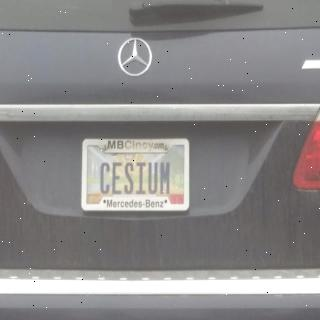license: (82, 140, 191, 212)
